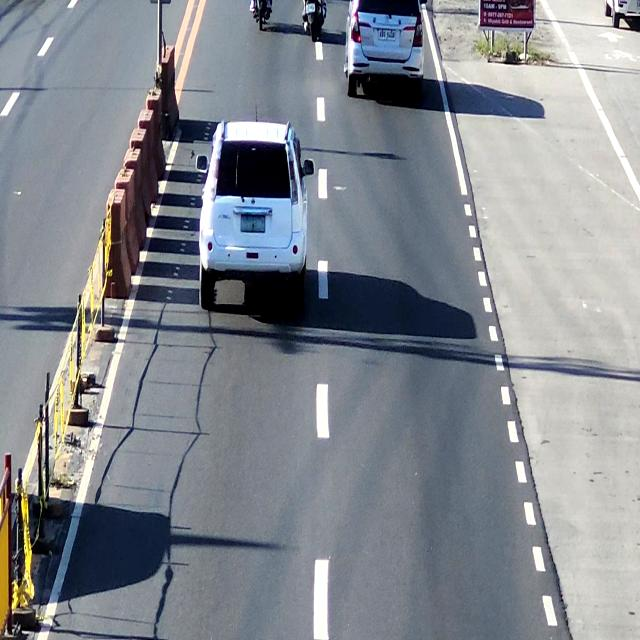Car: (201, 118, 309, 320), (343, 0, 424, 95)
License-Plate: (234, 204, 269, 235), (377, 24, 398, 42)
Motorcycle: (303, 0, 328, 40), (245, 0, 275, 32)
